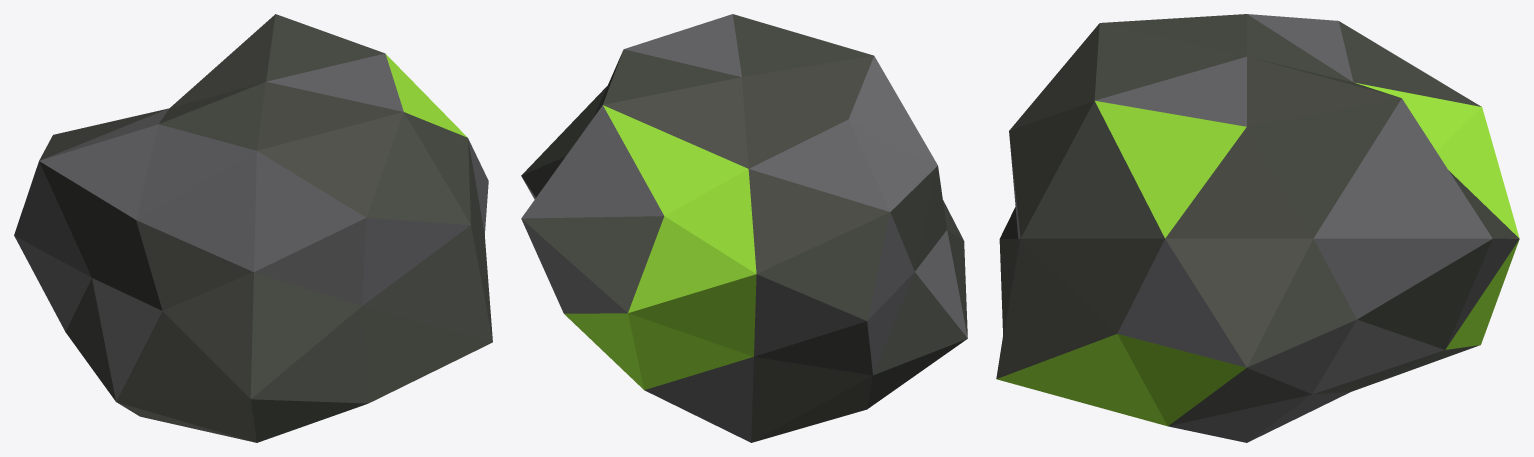
The model's file is uranium_ore.obj.
The picture shows the model from 3 angles, left to right: view 1: azimuth 30°, elevation 25°; view 2: azimuth 150°, elevation 25°; view 3: azimuth 270°, elevation 25°; orthographic projection. The views are drawn at different scales.
Bounding box in the file's own units: 0.9159 × 0.6499 × 0.8505.
